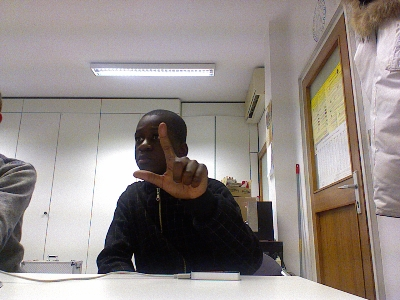枪: (131, 121, 209, 201)
